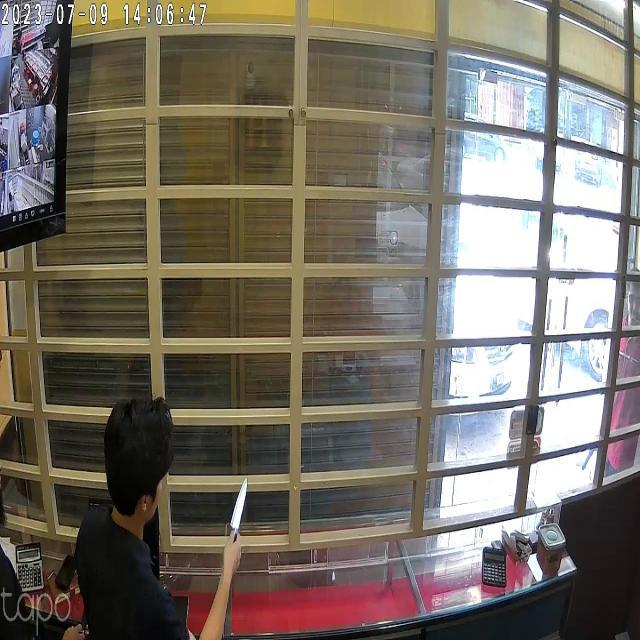Knife: (218, 461, 274, 562)
